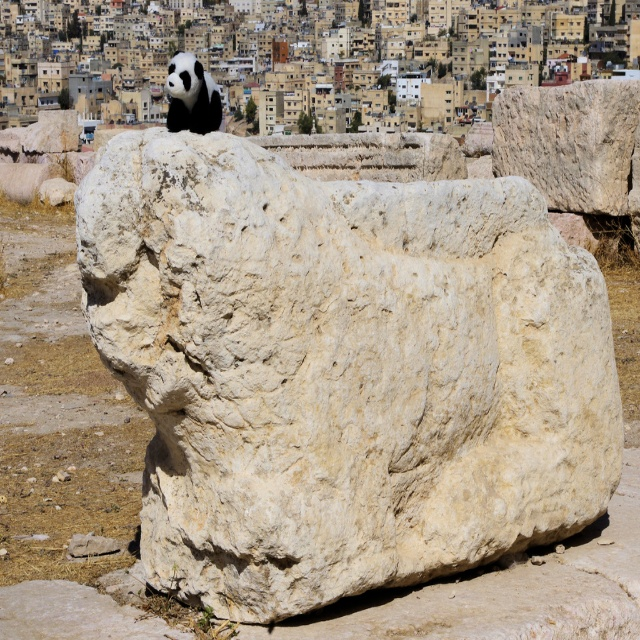Panda: (160, 47, 221, 131)
